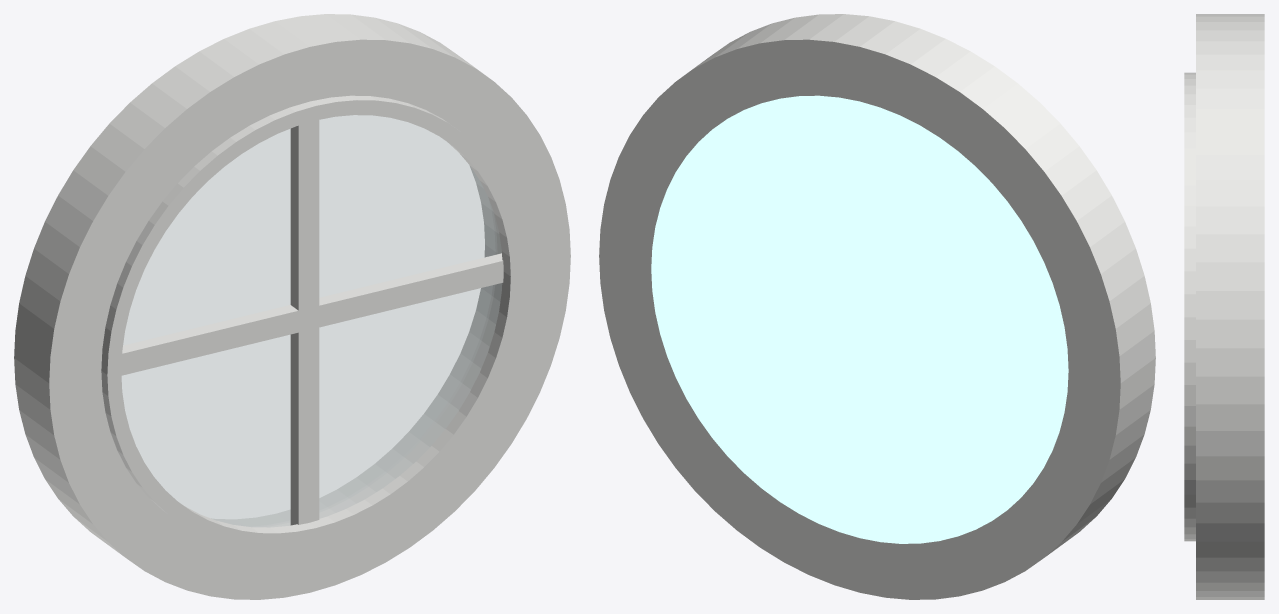
File: ojo_de_buey_600.glb
3 views of the same model, side by side, from view 1: azimuth 30°, elevation 25°; view 2: azimuth 150°, elevation 25°; view 3: azimuth 270°, elevation 25° (orthographic). The views are drawn at different scales.
Parts seen in each view (by area): view 1: Ojo de buey PVC Ø 60 cm; view 2: Ojo de buey PVC Ø 60 cm; view 3: Ojo de buey PVC Ø 60 cm.
Boxes of the visible parts, box(x1,y1,x2,y2) form: Ojo de buey PVC Ø 60 cm: box(14, 14, 570, 599); Ojo de buey PVC Ø 60 cm: box(599, 14, 1155, 599); Ojo de buey PVC Ø 60 cm: box(1184, 14, 1264, 599).
Size of the model in its own units: 0.6 by 0.6 by 0.082.
